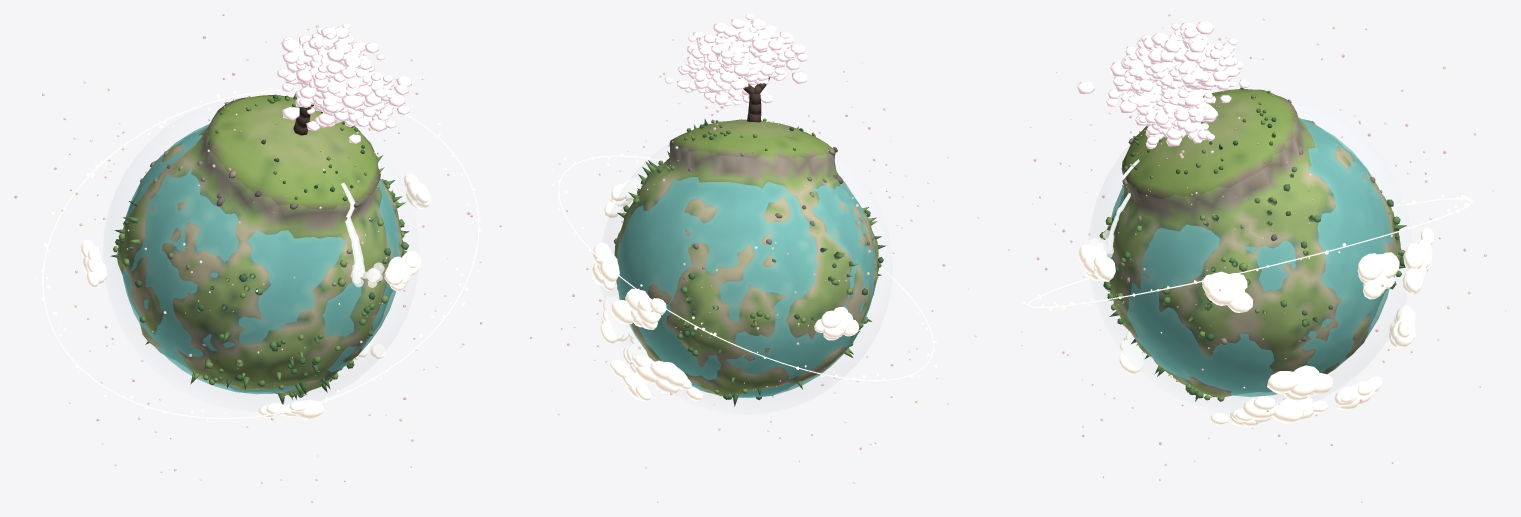
The model's file is planet_bloom.glb.
3 views of the same model, side by side, from view 1: azimuth 30°, elevation 25°; view 2: azimuth 150°, elevation 25°; view 3: azimuth 270°, elevation 25° (orthographic). The views are drawn at different scales.
Parts seen in each view (by area): view 1: Terrain, Water, Blossom, Vegetation, CloudPuffs, RingBand, Petals, Waterfall, Mist; view 2: Terrain, Water, CloudPuffs, Blossom, Vegetation, RingBand, Petals, TreeWood; view 3: Terrain, Water, CloudPuffs, Blossom, Vegetation, RingBand, Petals.
Boxes of the visible parts, x1,y1,x2,y2 form: Terrain: (117, 95, 404, 395); Water: (123, 124, 399, 394); Blossom: (277, 23, 411, 143); Vegetation: (110, 93, 409, 404); CloudPuffs: (80, 173, 430, 419); RingBand: (36, 88, 480, 420); Petals: (14, 14, 501, 502); Waterfall: (341, 182, 364, 272); Mist: (351, 262, 384, 287); Terrain: (614, 119, 878, 396); Water: (617, 177, 875, 397); CloudPuffs: (591, 178, 859, 401); Blossom: (664, 14, 807, 106); Vegetation: (614, 118, 885, 406); RingBand: (552, 153, 937, 381); Petals: (530, 31, 979, 502); TreeWood: (739, 77, 769, 122); Terrain: (1106, 88, 1400, 397); Water: (1107, 117, 1392, 396); CloudPuffs: (1078, 227, 1434, 427); Blossom: (1077, 21, 1249, 148); Vegetation: (1099, 87, 1406, 401); RingBand: (1022, 194, 1472, 311); Petals: (1008, 14, 1506, 502).
Size of the model in its own units: 3.39 by 3.64 by 3.46.
